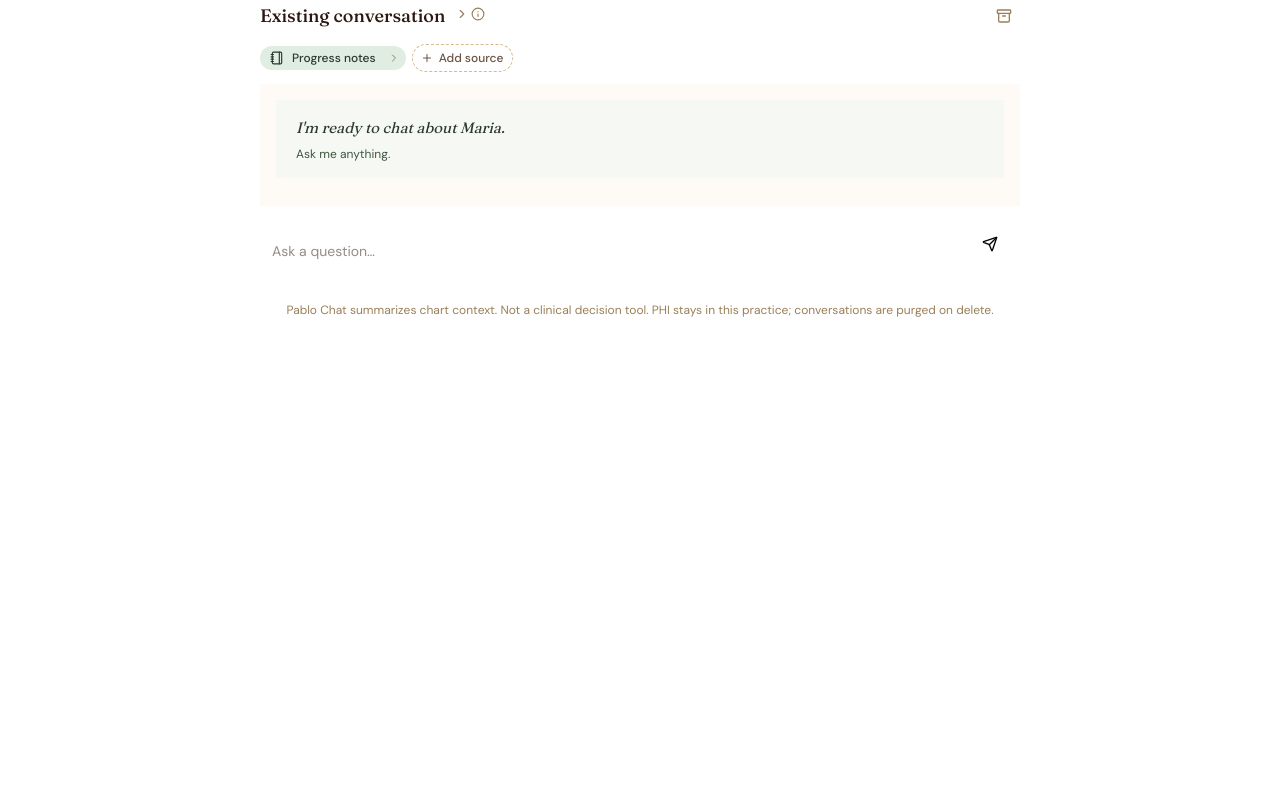
Scenario: ChatPanel — archive › PATCHes archive=true on confirm and renders the archived footer
This screenshot has width=1280, height=800.
Click the button named "Archive conversation": [1004, 16] box left=988, top=0, right=1020, bottom=32
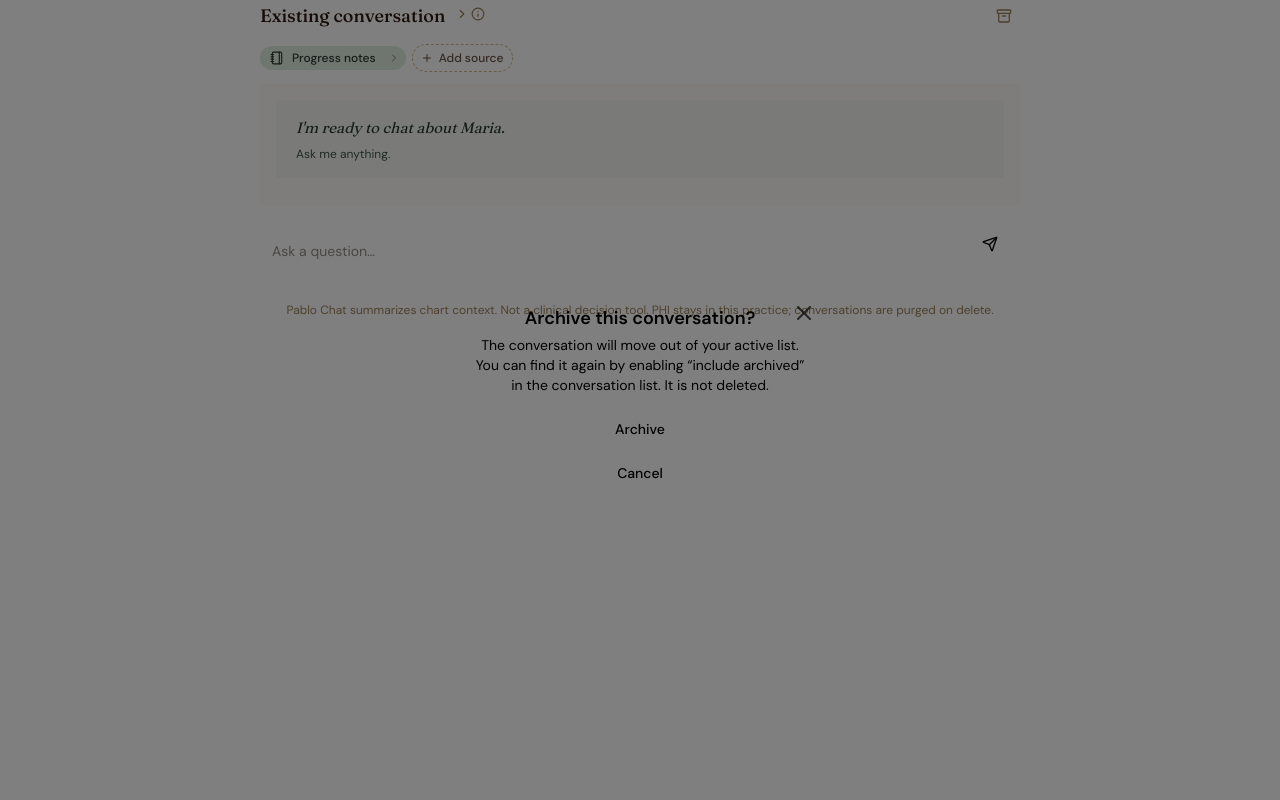
Click the button "Archive": [640, 429] box left=472, top=411, right=808, bottom=447
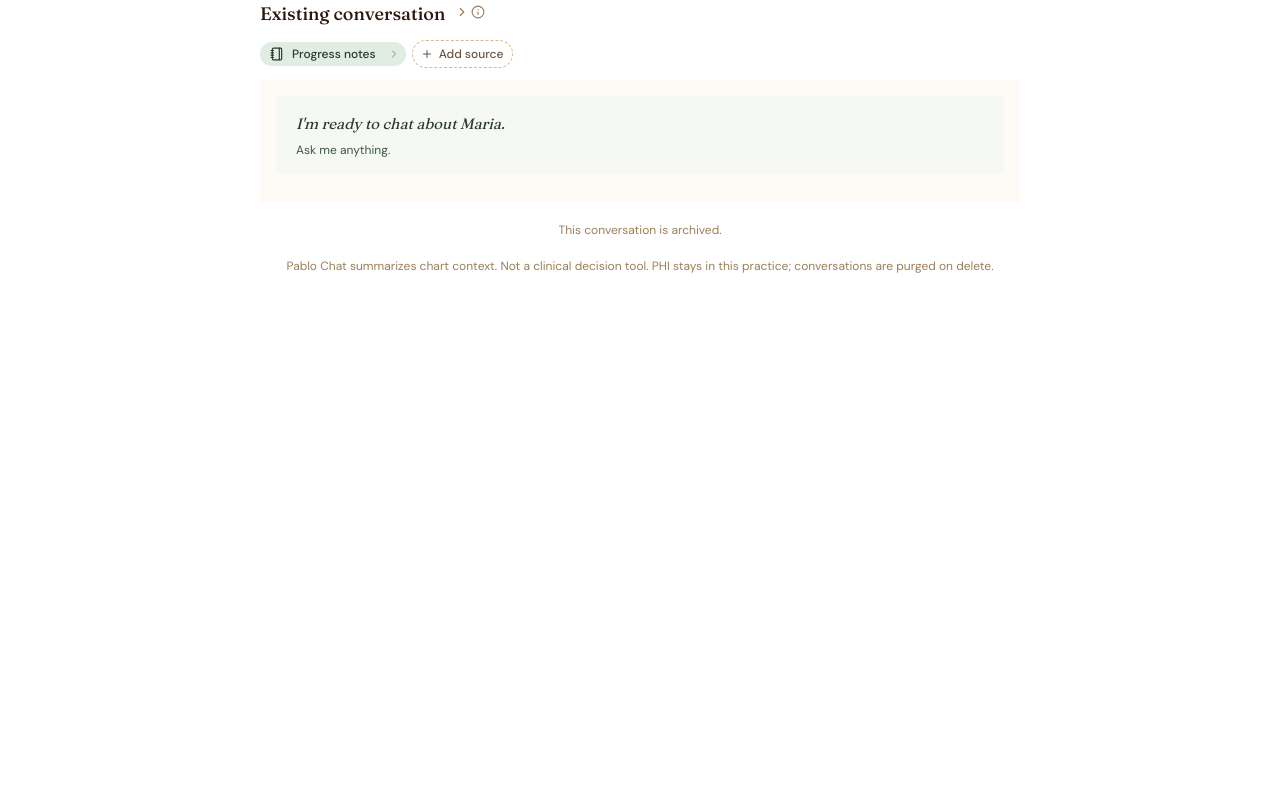
Check: the text "This conversation is archived." is shown, box left=558, top=222, right=722, bottom=238
Check: the button "Send" is gone
